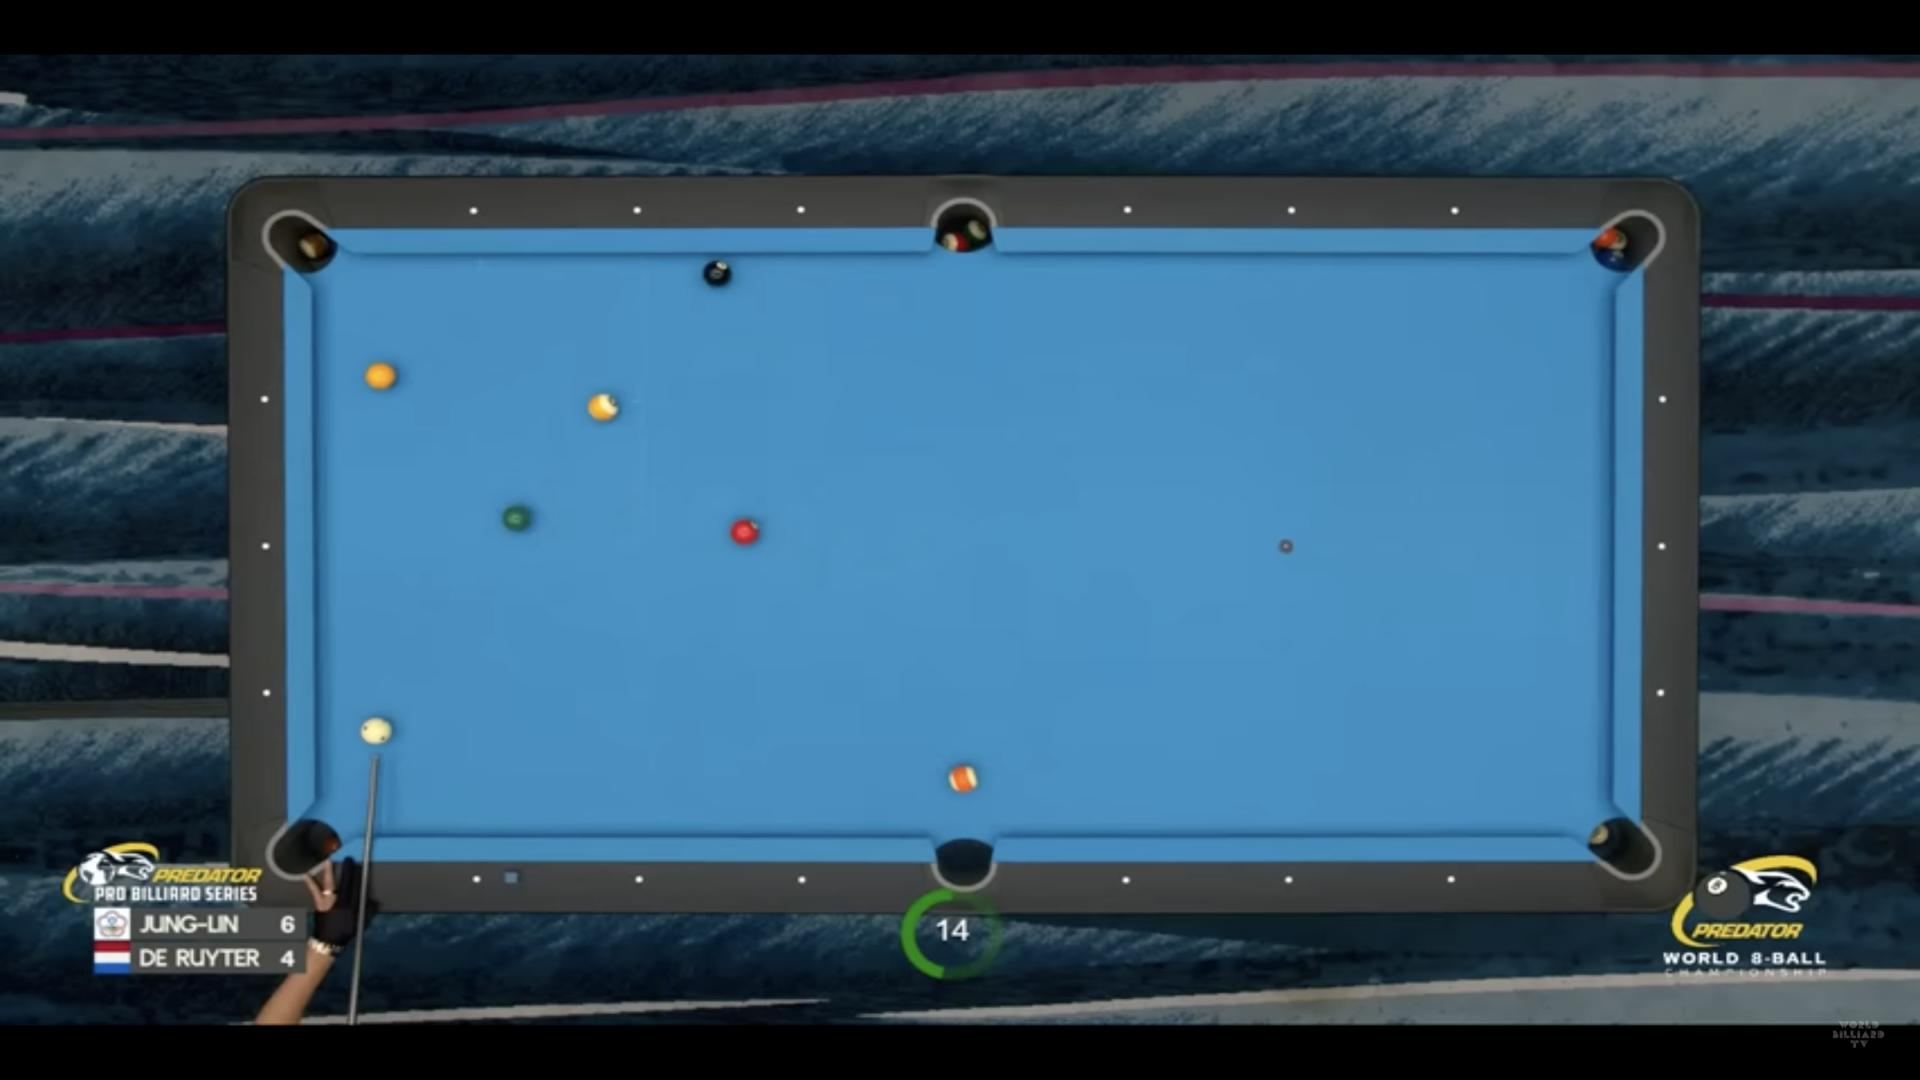Black: (703, 261, 731, 286)
Cue: (360, 717, 392, 745)
Dot: (469, 873, 485, 887), (794, 873, 810, 887), (633, 873, 647, 887), (1280, 873, 1296, 886), (1444, 873, 1460, 886), (1120, 874, 1134, 887), (258, 393, 272, 405), (1655, 687, 1667, 699), (1656, 541, 1668, 553), (1656, 394, 1668, 406), (632, 206, 644, 218), (260, 687, 273, 698), (258, 539, 272, 550), (468, 207, 480, 218), (795, 204, 807, 215), (1122, 204, 1133, 215), (1451, 207, 1461, 218), (1287, 206, 1298, 215)
Solid: (364, 363, 397, 389), (731, 518, 760, 545), (502, 506, 530, 530)
Striped: (588, 393, 620, 421), (948, 766, 978, 793)
